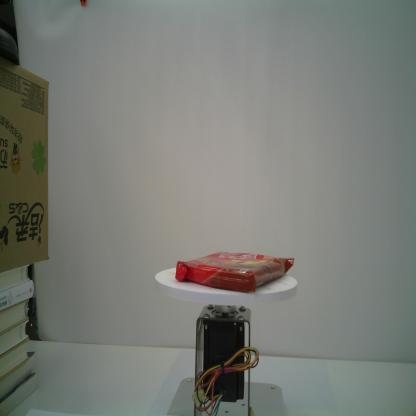Dessert: (175, 250, 294, 294)
